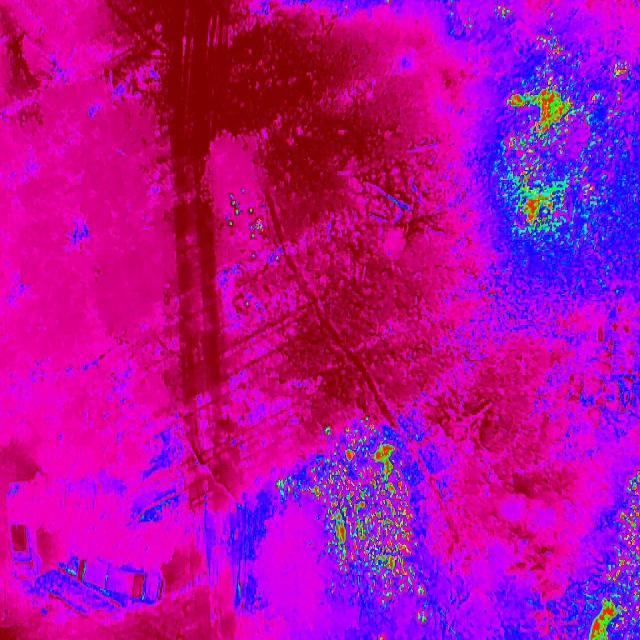fire: (499, 69, 640, 272), (316, 418, 438, 630), (613, 474, 640, 640), (269, 466, 316, 510), (584, 587, 613, 640)
